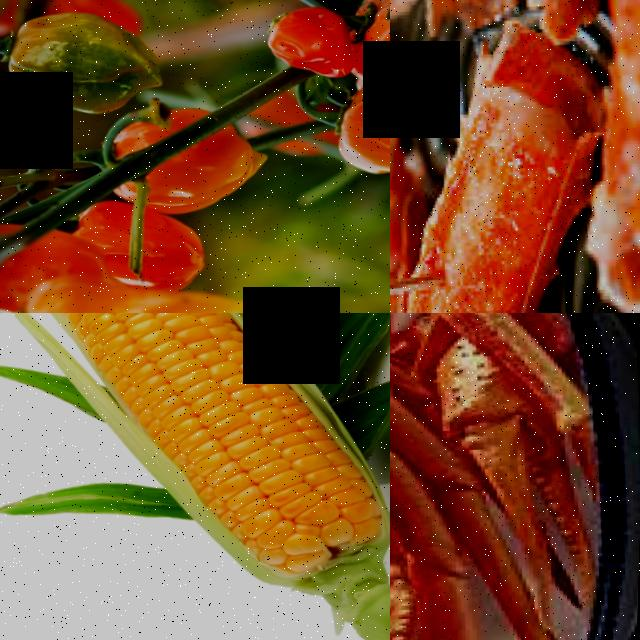corn: (98, 313, 390, 583), (30, 313, 210, 387)
crab: (390, 313, 618, 640)
